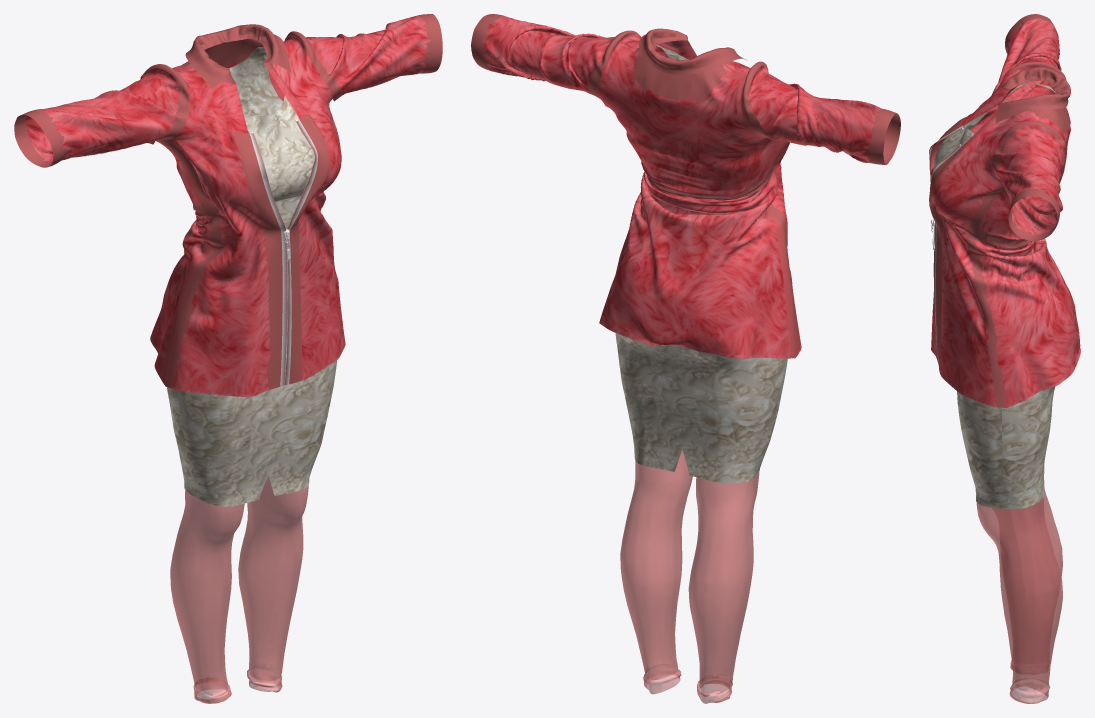
Rendered from G_coral_coat_set.glb.
The picture shows the model from 3 angles, left to right: view 1: azimuth 30°, elevation 25°; view 2: azimuth 150°, elevation 25°; view 3: azimuth 270°, elevation 25°; orthographic projection. The views are drawn at different scales.
Visible parts, largest first — view 1: Garment; view 2: Garment; view 3: Garment.
Boxes of the visible parts, x1=… form: Garment: x1=14, y1=14, x2=442, y2=703; Garment: x1=471, y1=14, x2=900, y2=703; Garment: x1=929, y1=14, x2=1080, y2=703.
Size of the model in its own units: 0.8818 by 1.35 by 0.3057.
1 material, 1 textured.
